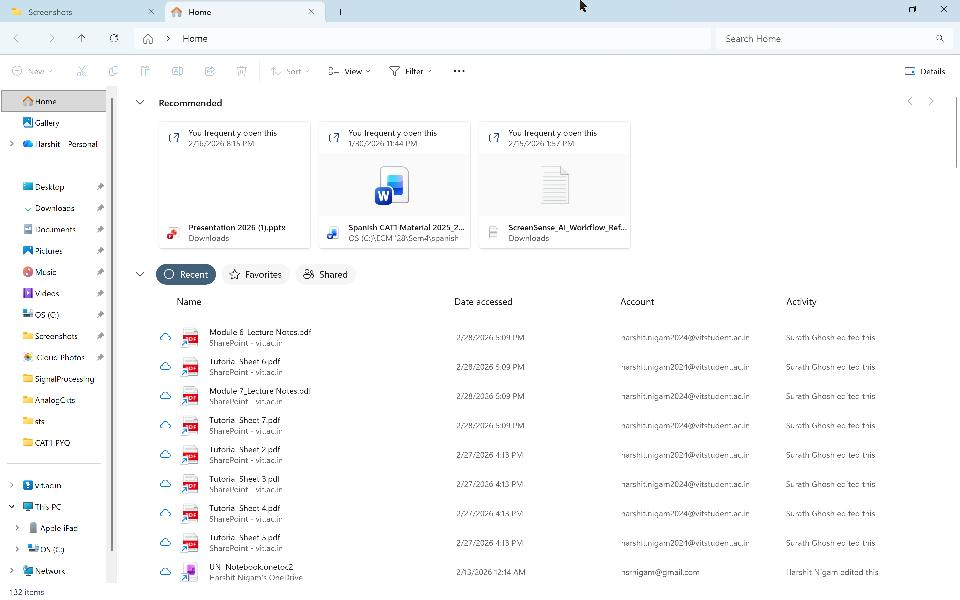close_button: (935, 2, 953, 18)
maximize_button: (902, 3, 926, 18)
minimize_button: (874, 2, 891, 17)
